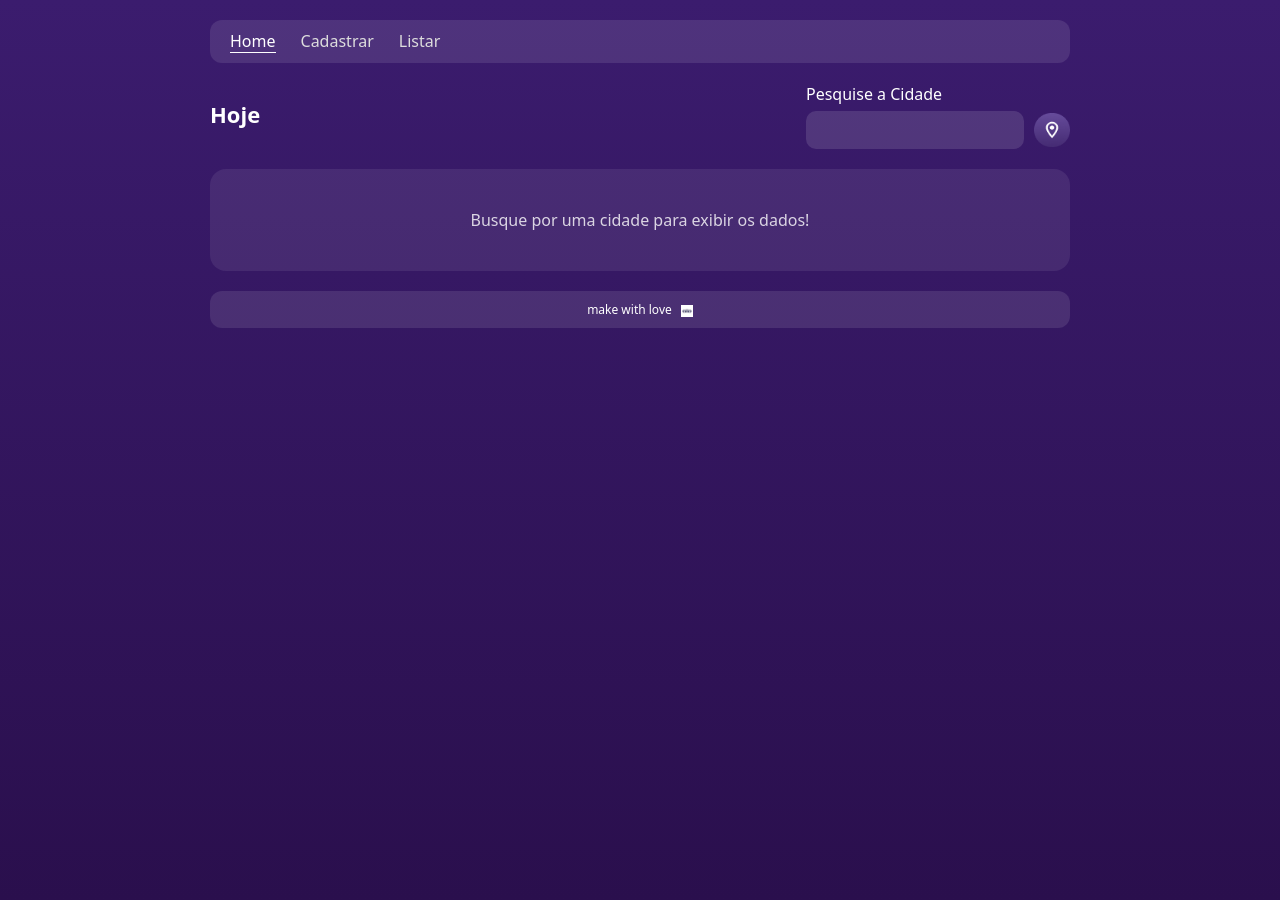
Test: Home › deve tratar erro da API
Type "Canoas" into the field. click: x=915, y=130
box: [806,111,1024,149]
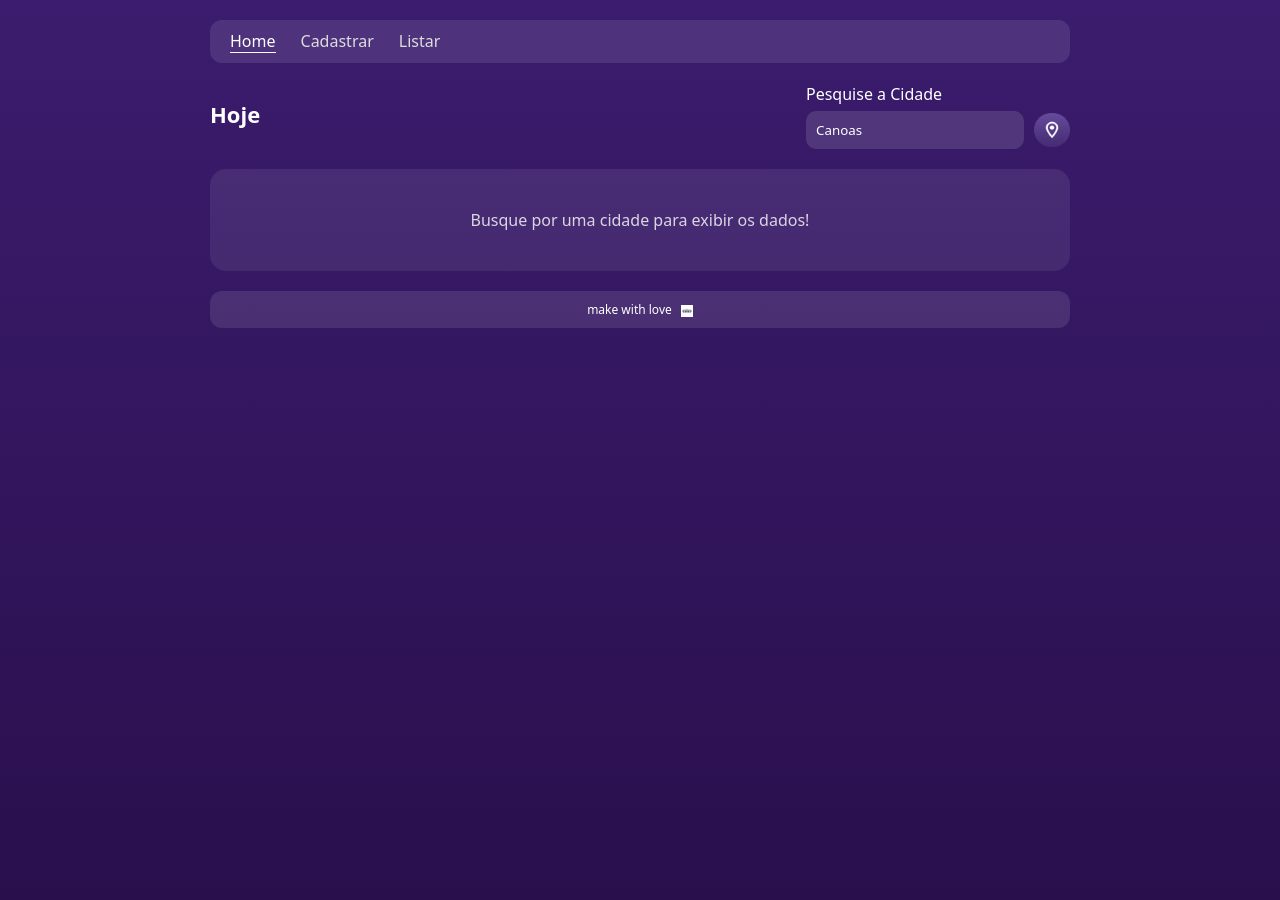
Click the picture with alt text "buscar". click: x=1052, y=130
box: [1034,113,1070,147]
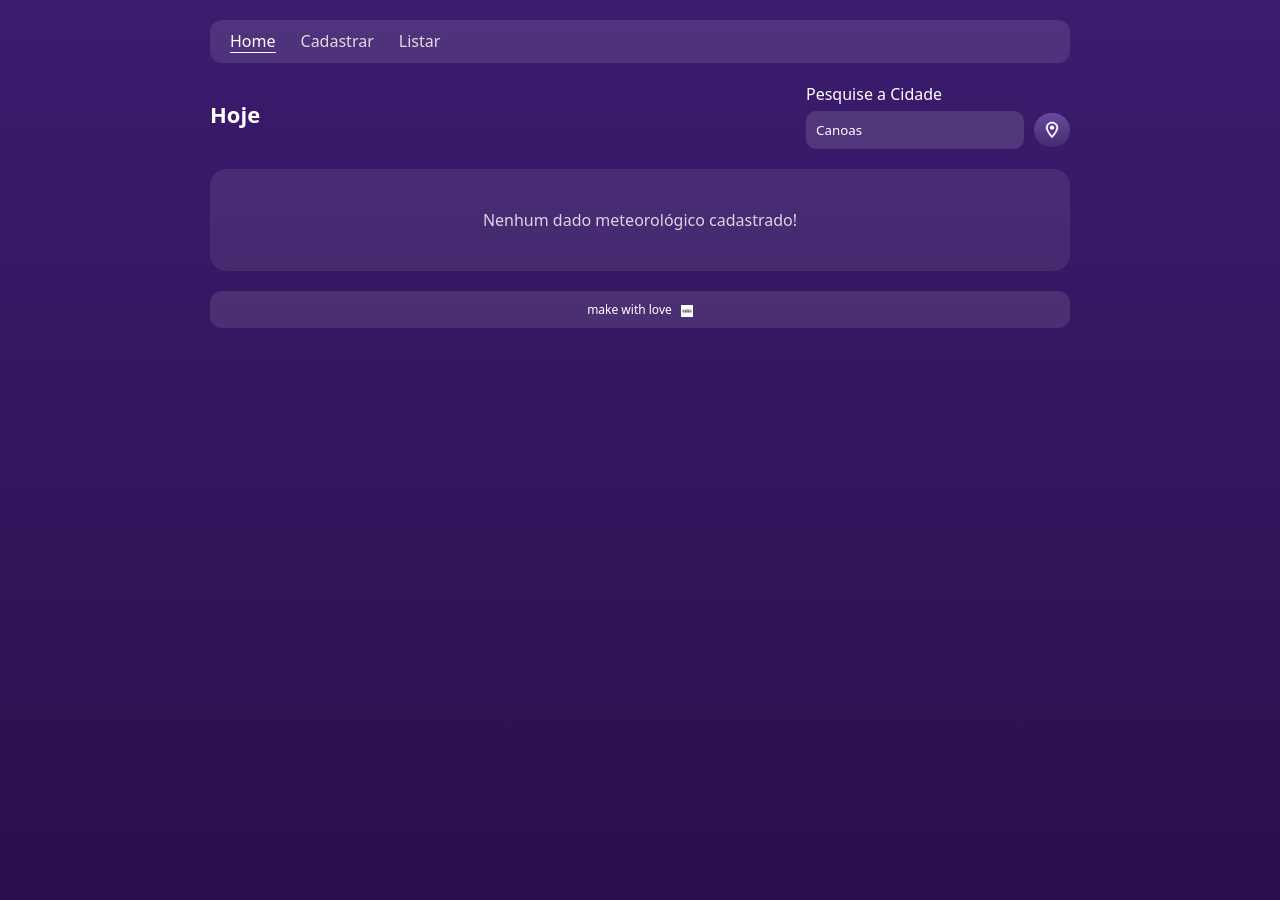
Expected: the text "Nenhum dado meteorológico cadastrado!" is shown, [483,209,797,231]
